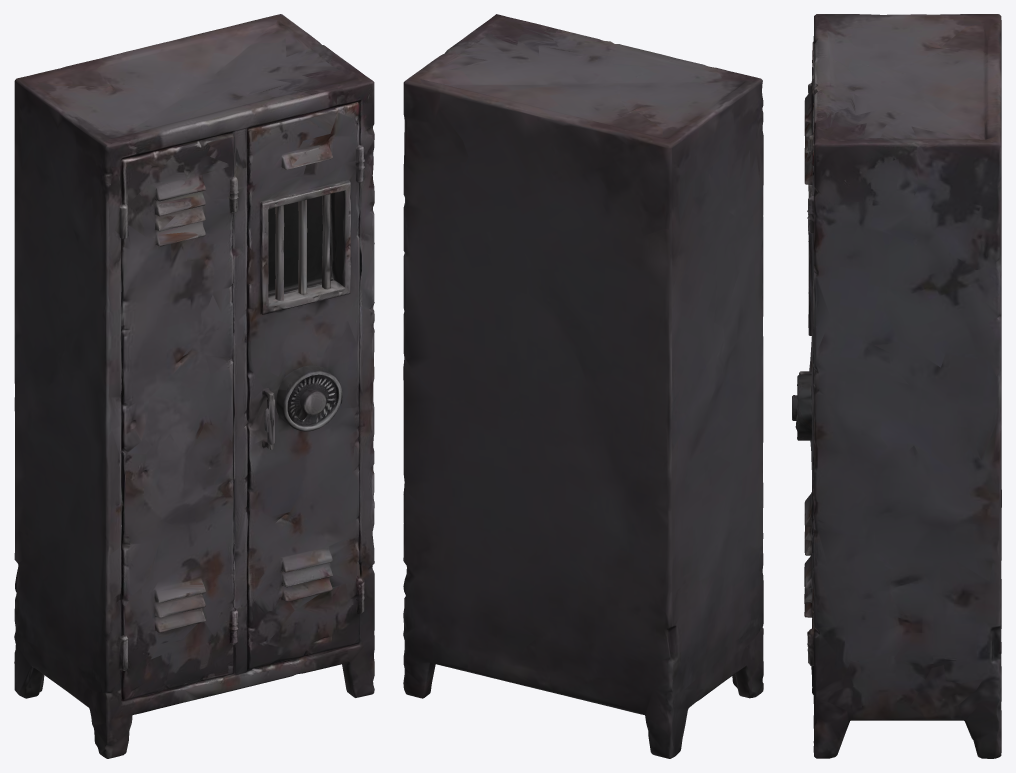
File: prison_armory_locker_b_idle.glb
3 renders of one model, left to right at view 1: azimuth 30°, elevation 25°; view 2: azimuth 150°, elevation 25°; view 3: azimuth 270°, elevation 25°, orthographic.
Visible parts, largest first — view 1: tripo_node_3492f5c1-95d2-46ad-96e2-55245e08a830; view 2: tripo_node_3492f5c1-95d2-46ad-96e2-55245e08a830; view 3: tripo_node_3492f5c1-95d2-46ad-96e2-55245e08a830.
Boxes of the visible parts, x1,y1,x2,y2 form: tripo_node_3492f5c1-95d2-46ad-96e2-55245e08a830: (14, 14, 374, 758); tripo_node_3492f5c1-95d2-46ad-96e2-55245e08a830: (403, 14, 763, 758); tripo_node_3492f5c1-95d2-46ad-96e2-55245e08a830: (792, 14, 1001, 758).
Bounding box in the file's own units: 0.8864 × 1.9 × 0.5874.
Materials: 1 (1 with a texture image).
